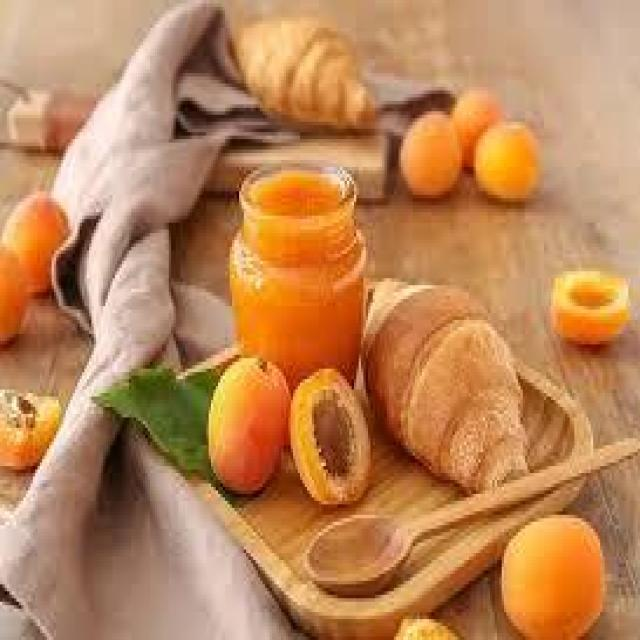cekirdek: (307, 389, 358, 480)
kayisi: (492, 515, 608, 640), (205, 354, 292, 502), (291, 366, 377, 512), (0, 191, 83, 292), (549, 264, 630, 351), (392, 104, 467, 194), (467, 116, 542, 204), (0, 378, 65, 467), (445, 86, 509, 168), (0, 222, 35, 351)
yaprak: (87, 357, 224, 489)
